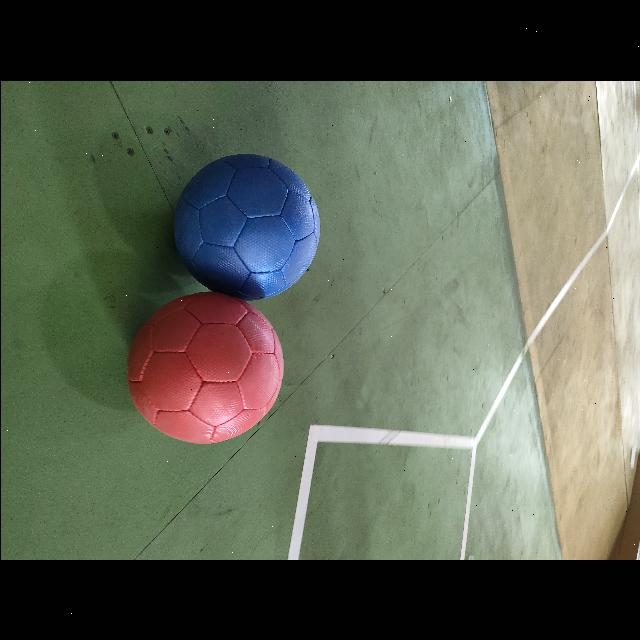B: (173, 152, 319, 300)
R: (127, 292, 282, 443)
